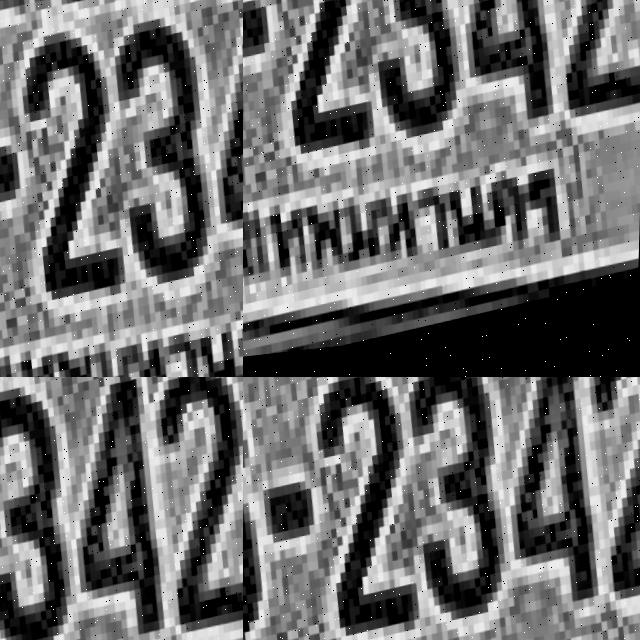license-plate: (243, 0, 640, 377), (243, 377, 640, 640), (0, 0, 243, 377), (0, 377, 243, 640)
